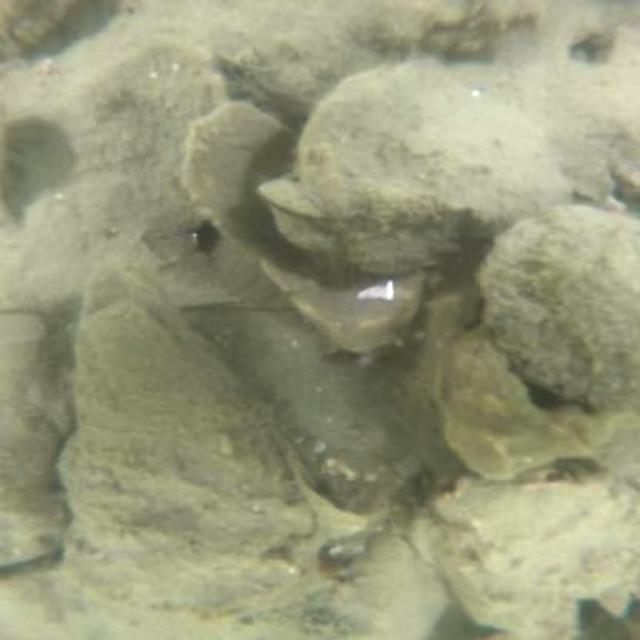Oyster-Closed: (63, 256, 305, 604), (268, 60, 626, 272), (176, 98, 429, 356), (478, 206, 632, 415), (425, 479, 636, 629), (5, 312, 69, 559), (1, 1, 70, 50)
